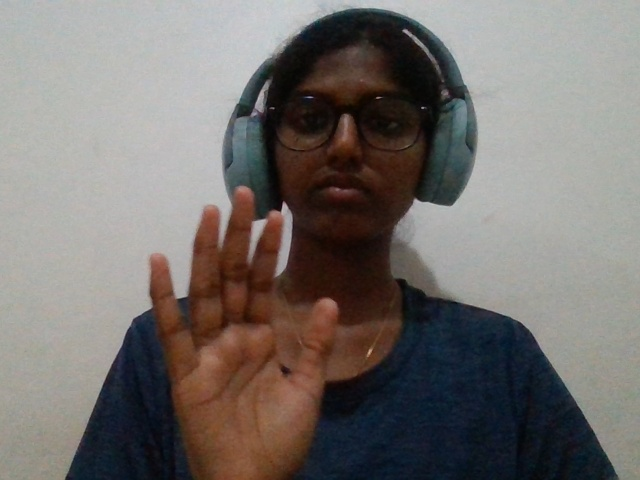Bye: (115, 176, 350, 465)
